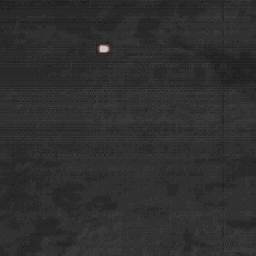Target: (98, 43, 110, 53)
